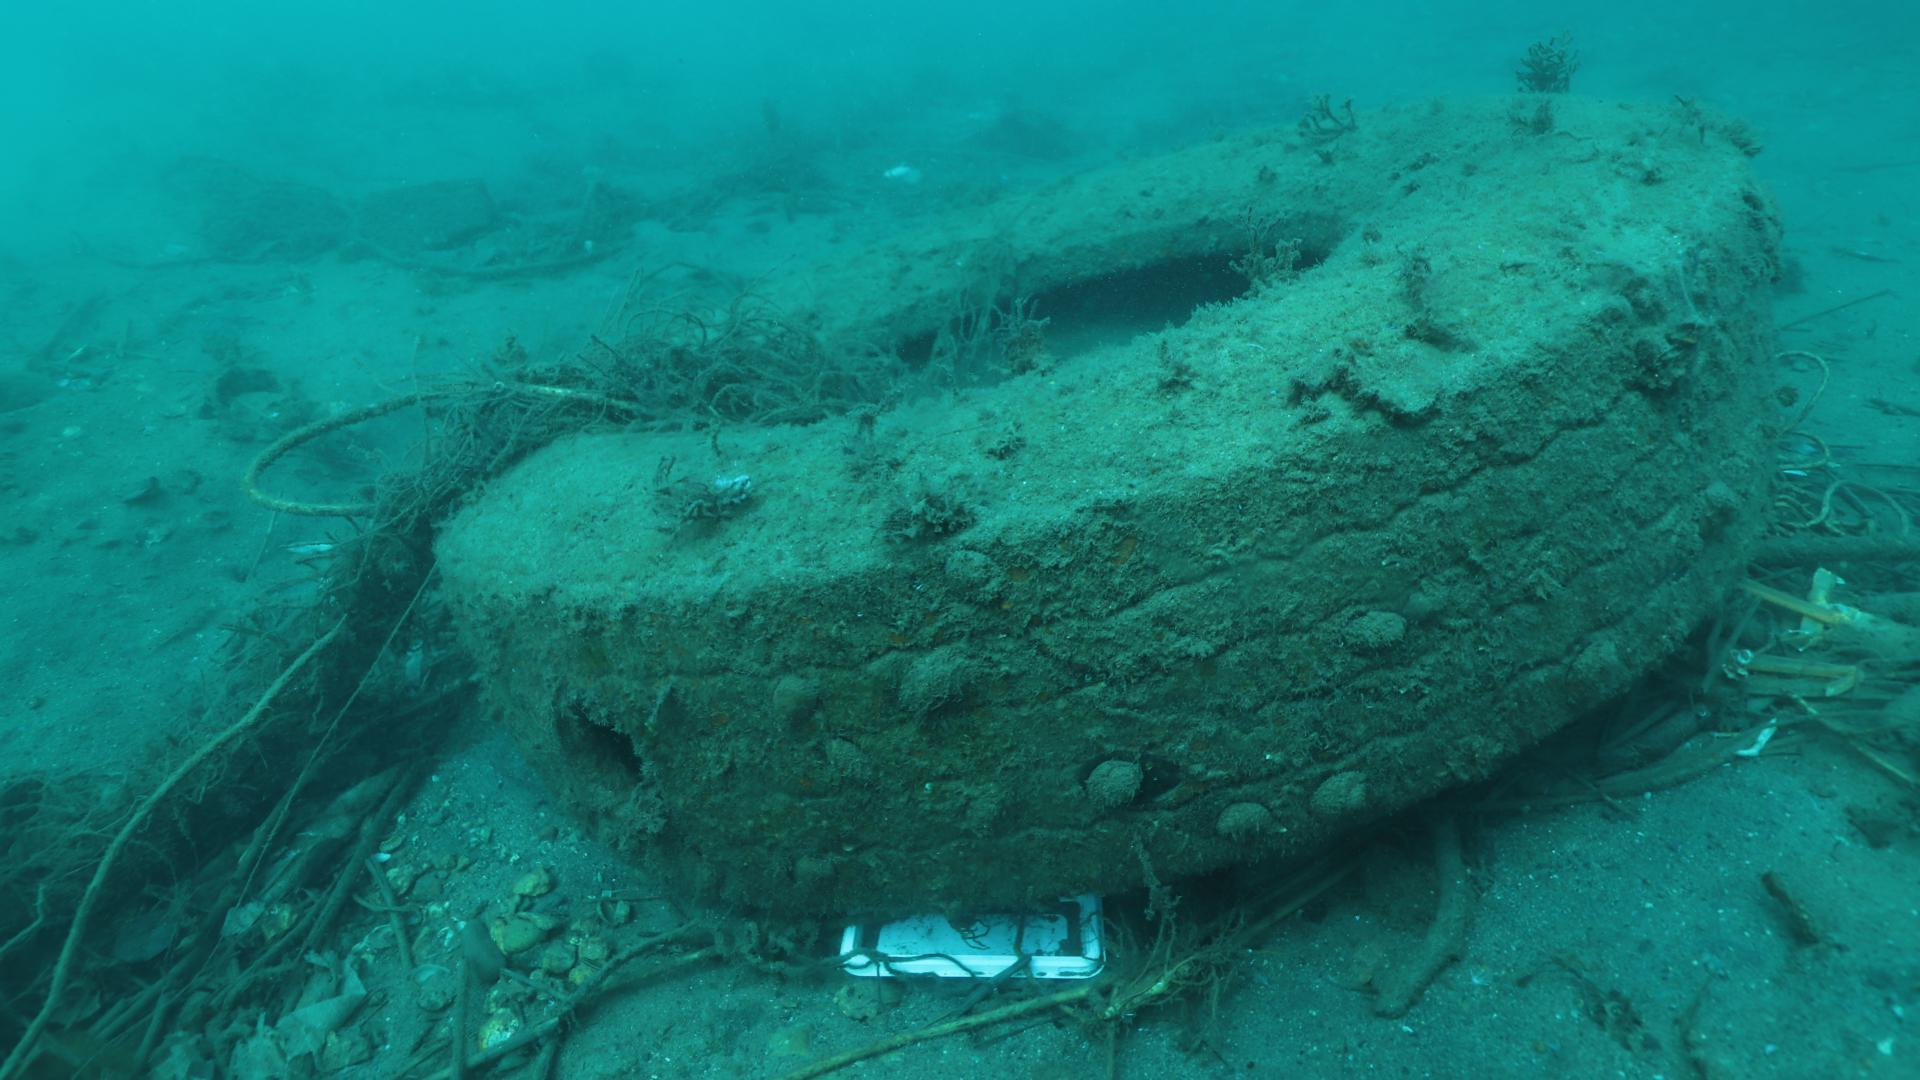tire: (435, 92, 1774, 909)
